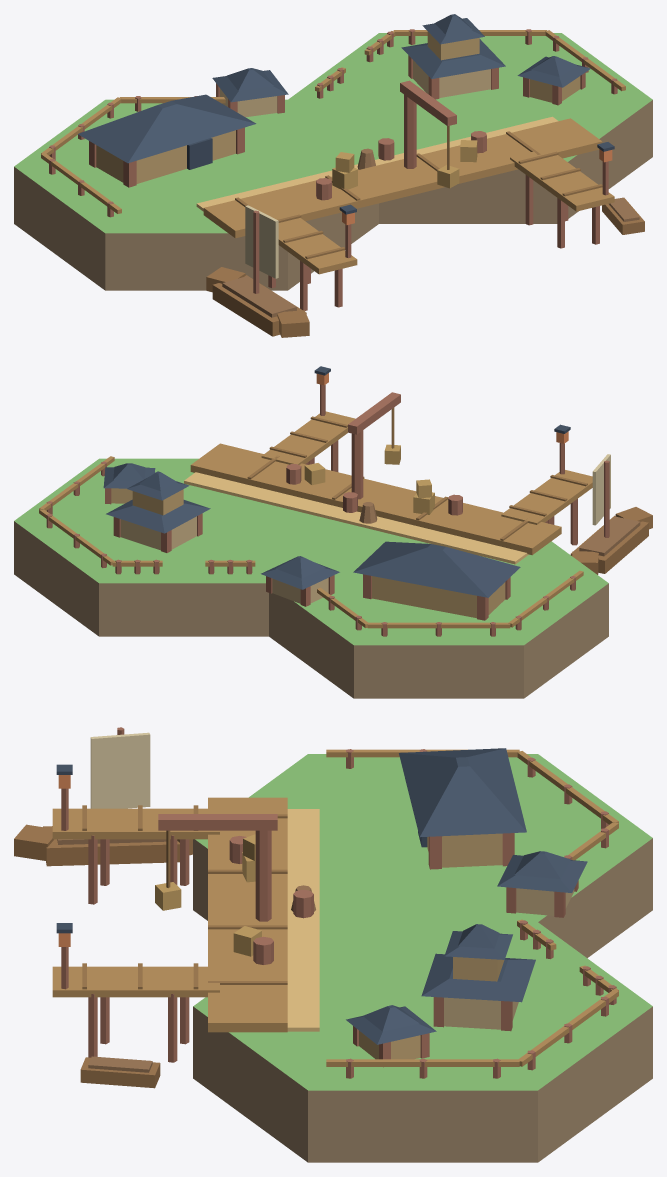
File: port-medium.glb
The picture shows the model from 3 angles, top to bottom: view 1: azimuth 30°, elevation 25°; view 2: azimuth 150°, elevation 25°; view 3: azimuth 270°, elevation 25°; orthographic projection. The views are drawn at different scales.
Parts seen in each view (by area): view 1: base_0, base_1, wharf, warehouse_roof, pier1_deck, warehouse_body, pier0_deck, office_eave1, shore_sand, junk_sail, office_body1, junk_hull (+21 smaller); view 2: base_0, base_1, wharf, warehouse_roof, shore_sand, warehouse_body, pier0_deck, pier1_deck, office_eave1, office_body1, junk_inner, junk_hull (+14 smaller); view 3: base_1, base_0, wharf, warehouse_roof, shore_sand, pier1_deck, junk_sail, pier0_deck, office_eave1, junk_hull, crane_arm, warehouse_body (+22 smaller).
Boxes of the visible parts, <box> form: base_0: <box>14,99,378,290</box>; base_1: <box>288,33,652,223</box>; wharf: <box>203,118,602,238</box>; warehouse_roof: <box>78,94,256,163</box>; pier1_deck: <box>510,148,614,211</box>; warehouse_body: <box>96,130,235,183</box>; pier0_deck: <box>270,211,357,274</box>; office_eave1: <box>401,39,505,78</box>; shore_sand: <box>196,116,558,211</box>; junk_sail: <box>245,205,278,278</box>; office_body1: <box>413,60,490,97</box>; junk_hull: <box>212,275,306,336</box>; base_0: <box>269,524,608,698</box>; base_1: <box>14,458,349,636</box>; wharf: <box>190,443,561,555</box>; warehouse_roof: <box>353,541,520,597</box>; shore_sand: <box>184,472,528,564</box>; warehouse_body: <box>372,576,505,618</box>; pier0_deck: <box>501,470,592,524</box>; pier1_deck: <box>261,411,355,464</box>; office_eave1: <box>106,499,210,533</box>; office_body1: <box>120,516,196,550</box>; junk_inner: <box>579,516,640,556</box>; junk_hull: <box>570,515,648,573</box>; base_1: <box>193,922,652,1162</box>; base_0: <box>193,754,652,958</box>; wharf: <box>208,797,287,1032</box>; warehouse_roof: <box>399,748,526,837</box>; shore_sand: <box>287,809,319,1031</box>; pier1_deck: <box>52,966,219,997</box>; junk_sail: <box>90,732,150,808</box>; pier0_deck: <box>52,808,219,839</box>; office_eave1: <box>421,953,535,1002</box>; junk_hull: <box>43,826,179,866</box>; crane_arm: <box>158,814,277,830</box>; warehouse_body: <box>427,833,502,867</box>.
Size of the model in its own units: 2 by 0.515 by 1.6.
